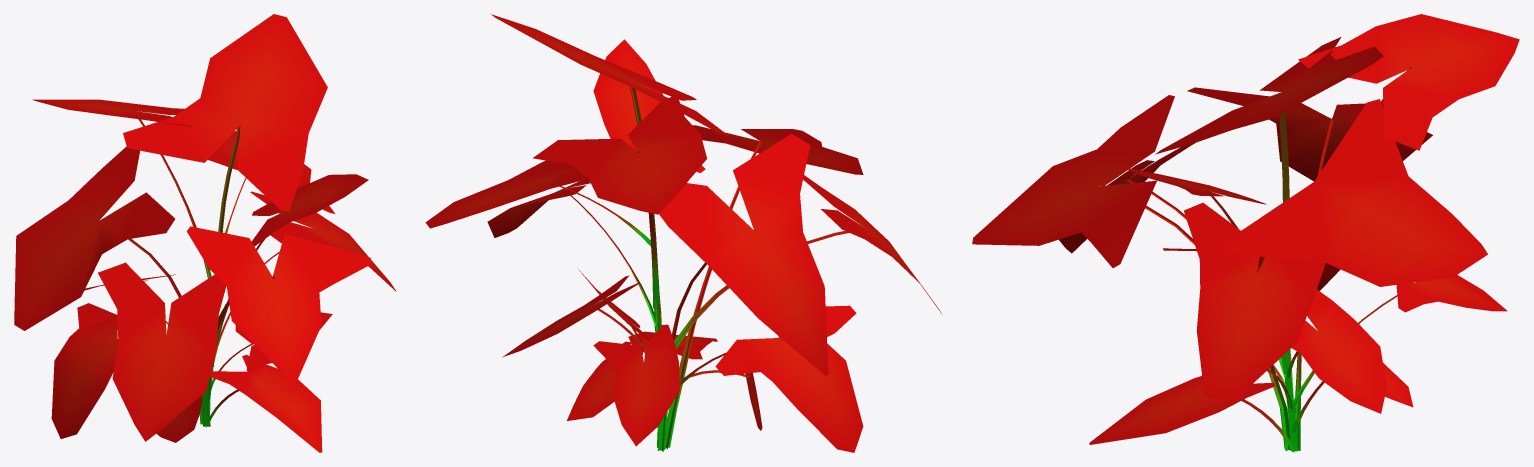
Rendered from Var1_LOD2.fbx.
The picture shows the model from 3 angles, left to right: view 1: azimuth 30°, elevation 25°; view 2: azimuth 150°, elevation 25°; view 3: azimuth 270°, elevation 25°; orthographic projection. The views are drawn at different scales.
Parts seen in each view (by area): view 1: _c94f_Var1_LOD2; view 2: _c94f_Var1_LOD2; view 3: _c94f_Var1_LOD2.
Part boxes in pixels (left/top/right/bottom): _c94f_Var1_LOD2: left=14, top=14, right=396, bottom=452; _c94f_Var1_LOD2: left=425, top=14, right=941, bottom=452; _c94f_Var1_LOD2: left=972, top=14, right=1519, bottom=452.
Size of the model in its own units: 48.8 by 51.49 by 55.64.
